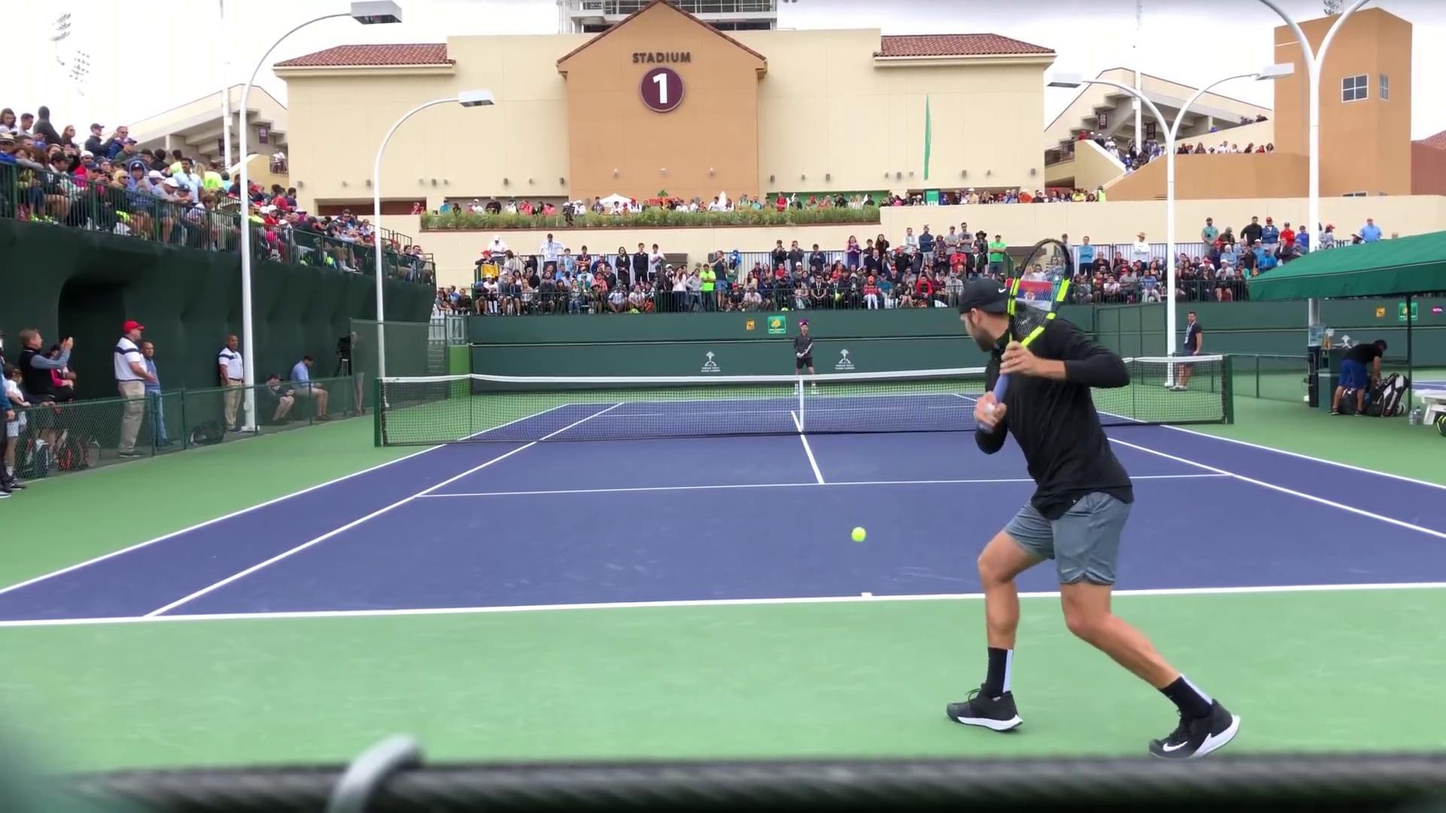ball: (847, 524, 870, 545)
